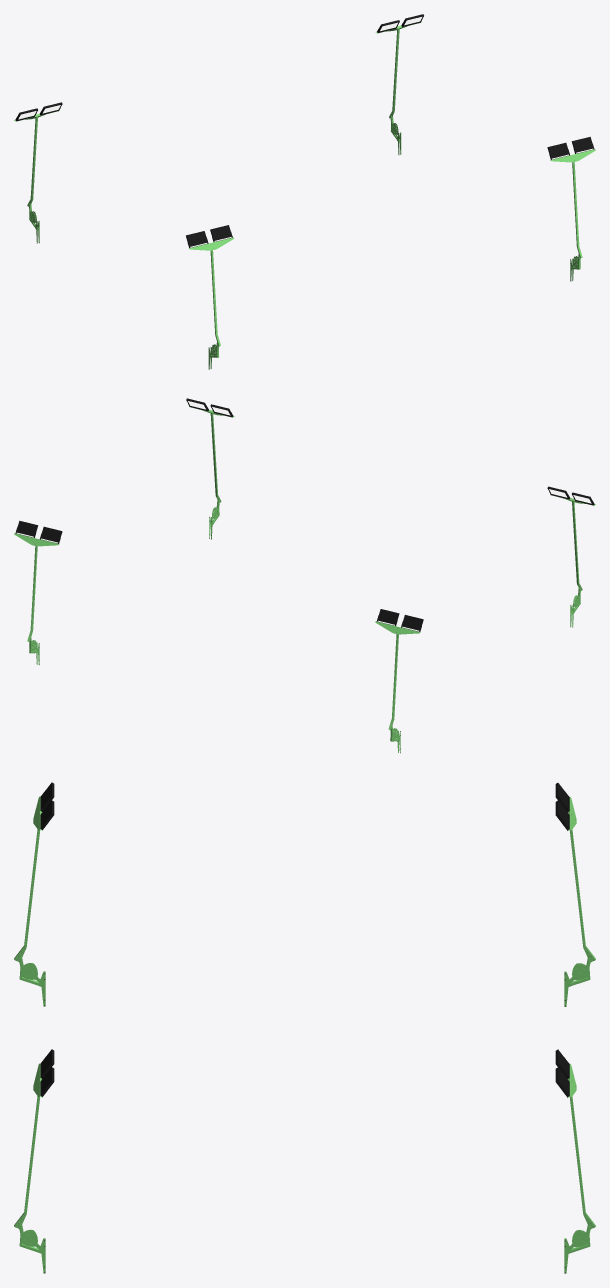
The model's file is padel_3.glb.
The picture shows the model from 3 angles, top to bottom: view 1: azimuth 30°, elevation 25°; view 2: azimuth 150°, elevation 25°; view 3: azimuth 270°, elevation 25°; orthographic projection. The views are drawn at different scales.
Visible parts, largest first — view 1: padel_4; view 2: padel_4; view 3: padel_4.
Boxes of the visible parts, <box> form: padel_4: <box>14,14,595,369</box>; padel_4: <box>14,398,595,753</box>; padel_4: <box>14,782,595,1273</box>.
Size of the model in its own units: 13.68 by 4.43 by 11.22.
